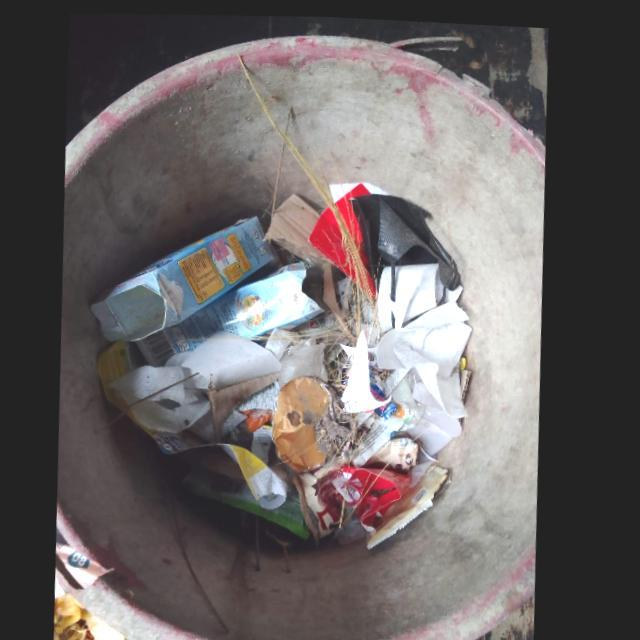paper: (93, 212, 277, 338), (144, 253, 326, 363), (112, 328, 286, 429), (381, 296, 479, 450), (311, 178, 380, 294), (381, 257, 467, 327), (267, 189, 336, 262), (343, 324, 398, 406)
wrapper: (299, 433, 459, 545)
